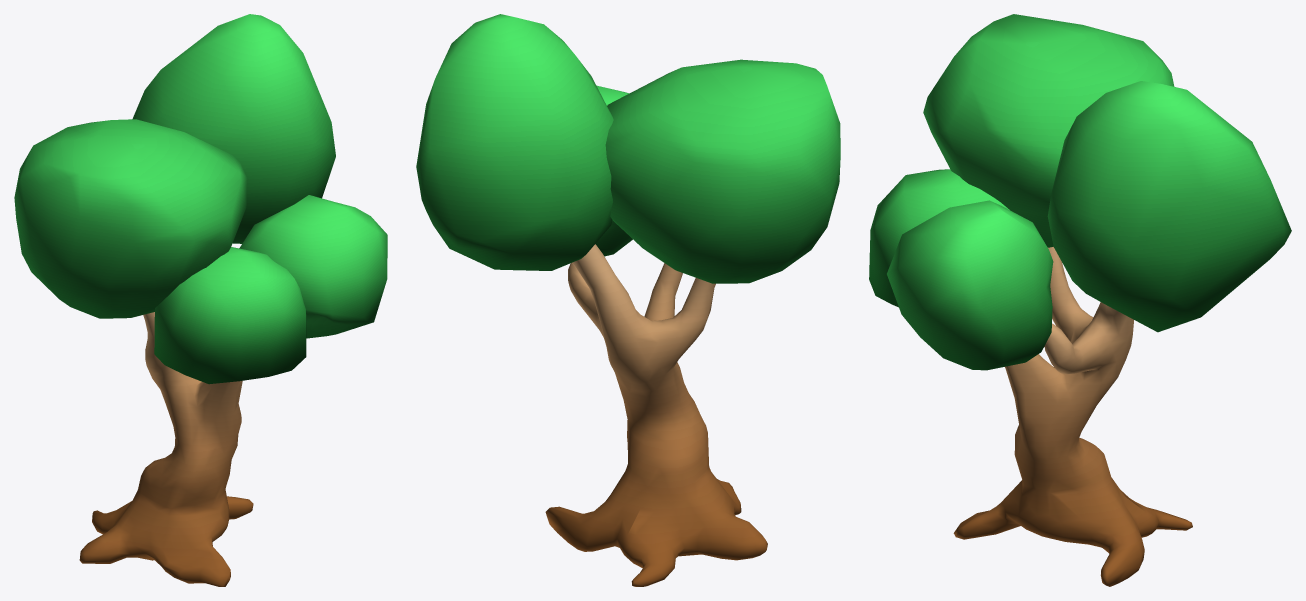
The model's file is Tree1 B1G1.fbx.
3 views of the same model, side by side, from view 1: azimuth 30°, elevation 25°; view 2: azimuth 150°, elevation 25°; view 3: azimuth 270°, elevation 25° (orthographic). The views are drawn at different scales.
Parts seen in each view (by area): view 1: Tree1 Leaves, Tree1 Leaves.001, Tree1 B1, Tree1 Leaves.002, Tree1 Leaves.003; view 2: Tree1 Leaves, Tree1 Leaves.001, Tree1 B1, Tree1 Leaves.003; view 3: Tree1 Leaves.001, Tree1 Leaves, Tree1 B1, Tree1 Leaves.003, Tree1 Leaves.002.
Part boxes in pixels (<box>): Tree1 Leaves: <box>14,119,246,318</box>; Tree1 Leaves.001: <box>132,14,335,243</box>; Tree1 B1: <box>79,312,253,586</box>; Tree1 Leaves.002: <box>154,247,306,384</box>; Tree1 Leaves.003: <box>239,195,387,338</box>; Tree1 Leaves: <box>605,59,840,283</box>; Tree1 Leaves.001: <box>416,14,613,270</box>; Tree1 B1: <box>545,244,767,586</box>; Tree1 Leaves.003: <box>595,85,632,256</box>; Tree1 Leaves.001: <box>1047,81,1291,332</box>; Tree1 Leaves: <box>923,14,1174,247</box>; Tree1 B1: <box>953,247,1192,586</box>; Tree1 Leaves.003: <box>887,200,1053,370</box>; Tree1 Leaves.002: <box>869,169,1009,307</box>.
Size of the model in its own units: 18.71 by 19.12 by 26.11.
